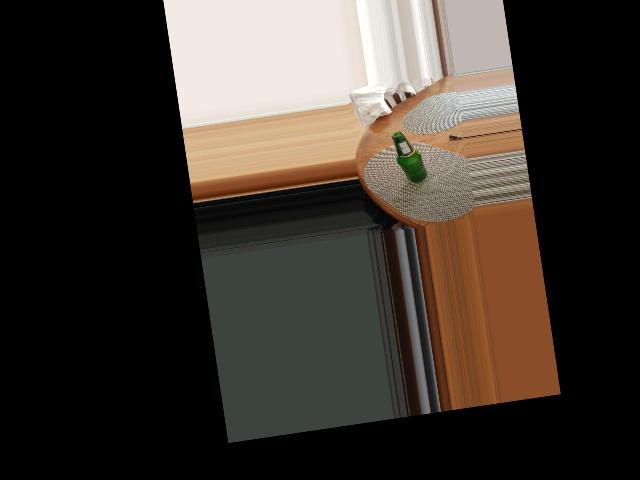beer: (393, 129, 428, 184)
